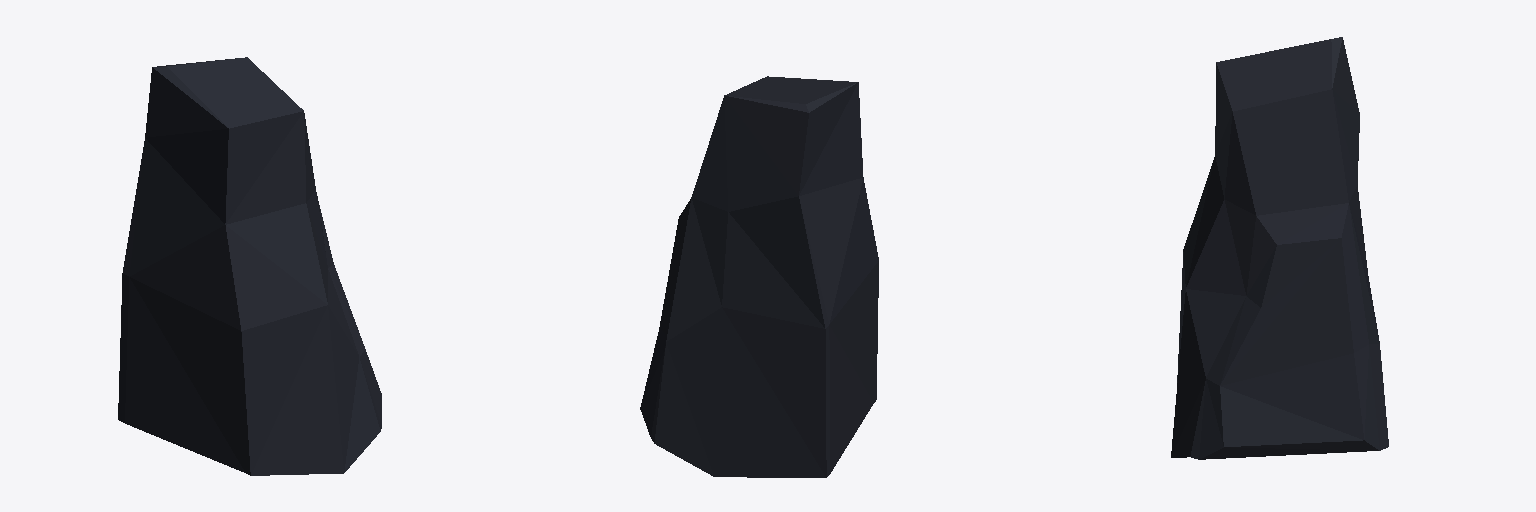
Rendered from Rock1.obj.
3 renders of one model, left to right at view 1: azimuth 30°, elevation 25°; view 2: azimuth 150°, elevation 25°; view 3: azimuth 270°, elevation 25°, orthographic.
Visible parts, largest first — view 1: Rock_1_Cube.018; view 2: Rock_1_Cube.018; view 3: Rock_1_Cube.018.
Part boxes in pixels (left/top/right/bottom): Rock_1_Cube.018: left=118, top=57, right=381, bottom=475; Rock_1_Cube.018: left=640, top=76, right=878, bottom=477; Rock_1_Cube.018: left=1171, top=37, right=1388, bottom=459.
Bounding box in the file's own units: 0.4853 × 0.8778 × 0.4667.